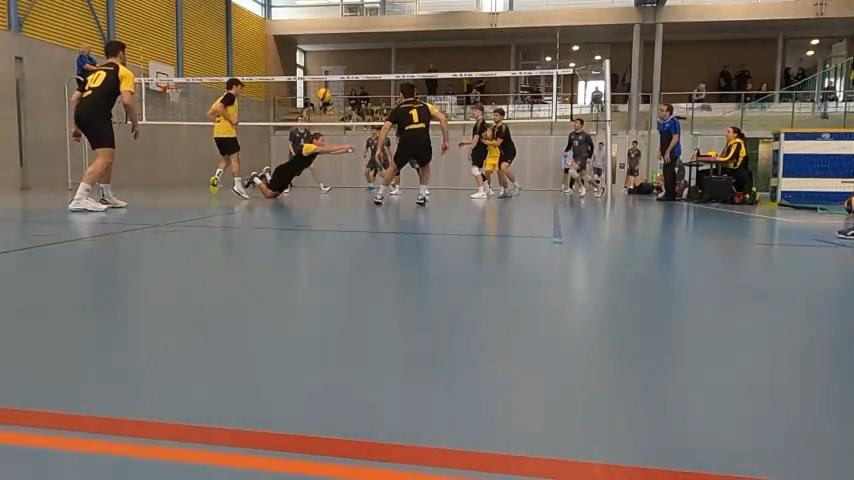Dig: (245, 137, 354, 200)
Player: (68, 40, 138, 211), (374, 82, 448, 205), (207, 78, 248, 198), (484, 107, 521, 197), (459, 104, 491, 198), (563, 118, 594, 195), (363, 126, 390, 190), (289, 115, 311, 158), (484, 145, 500, 187), (395, 130, 401, 146)
ball: (315, 87, 332, 103)
